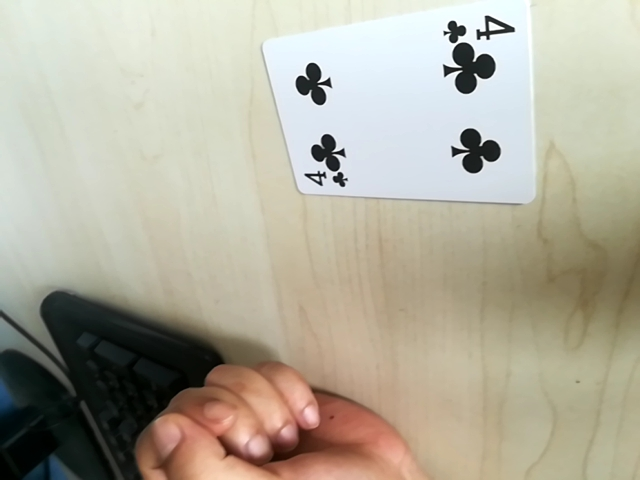mh 4: (441, 11, 516, 43), (298, 163, 349, 191)
